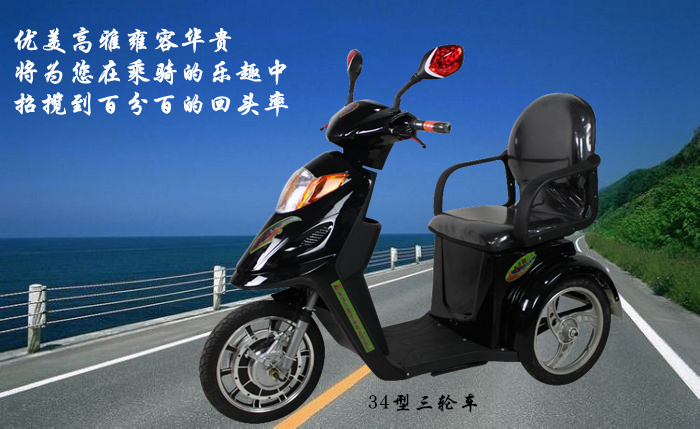电动车: (189, 40, 628, 429)
